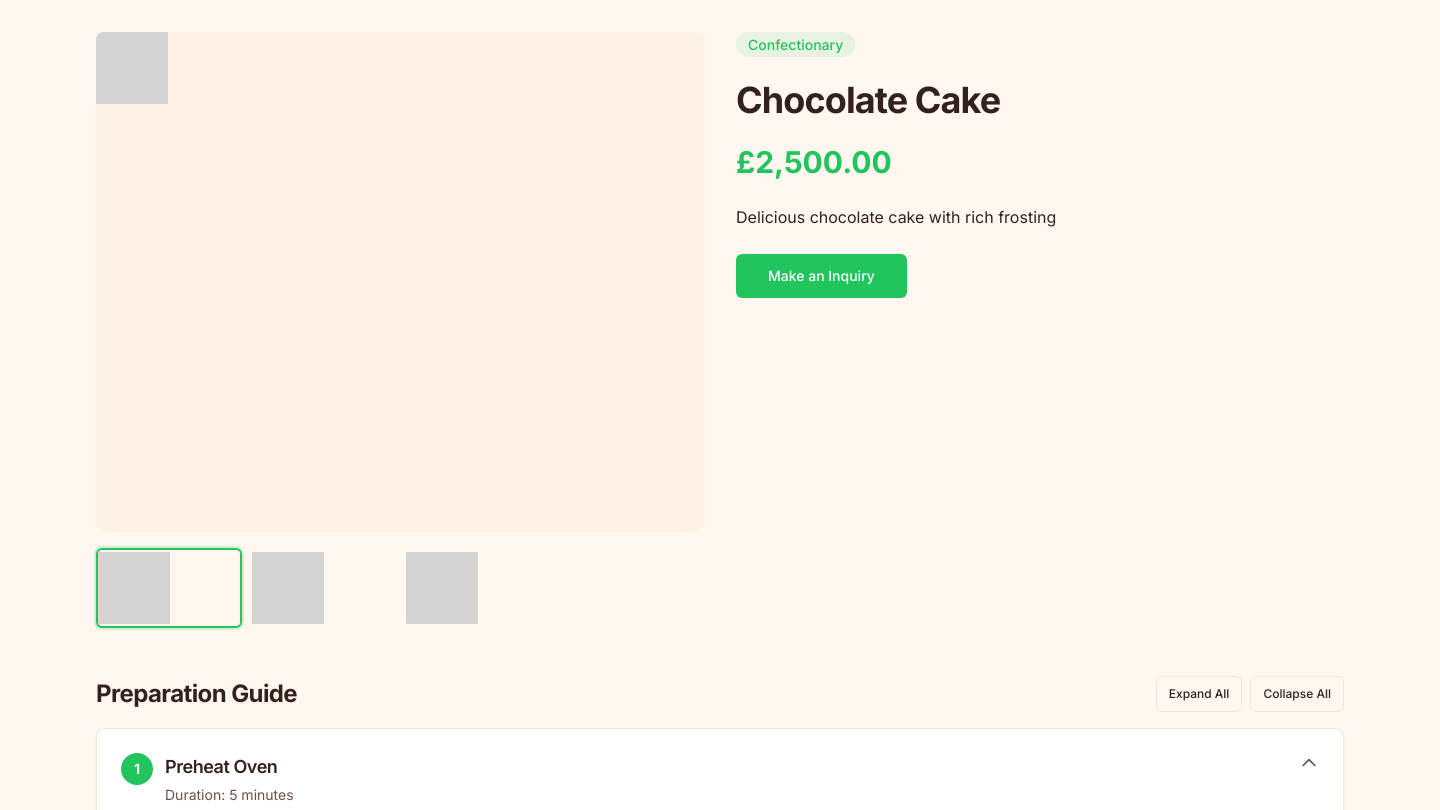
Test: ProductDetail › displays full inquiry form with all required fields
This screenshot has width=1440, height=810.
Click the button "Make an Inquiry" at (821, 276), box [736,254,907,298]
(page scrolled)
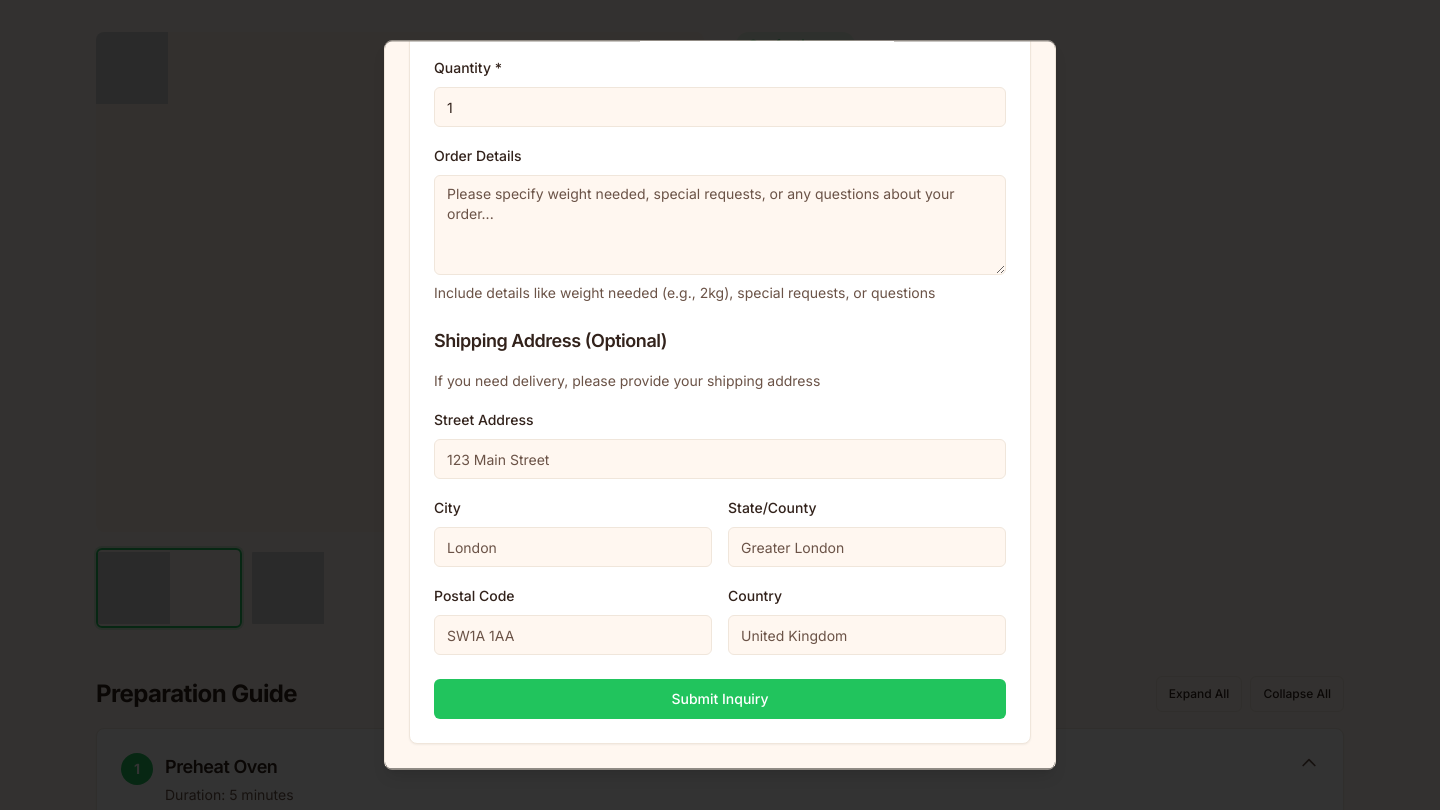
Check: the number field labelled "Quantity *" is shown, box [434,88,1006,128]
Check: the text box labelled "Order Details" is shown, box [434,176,1006,276]
Check: the field labelled "Street Address" is shown, box [434,440,1006,480]
